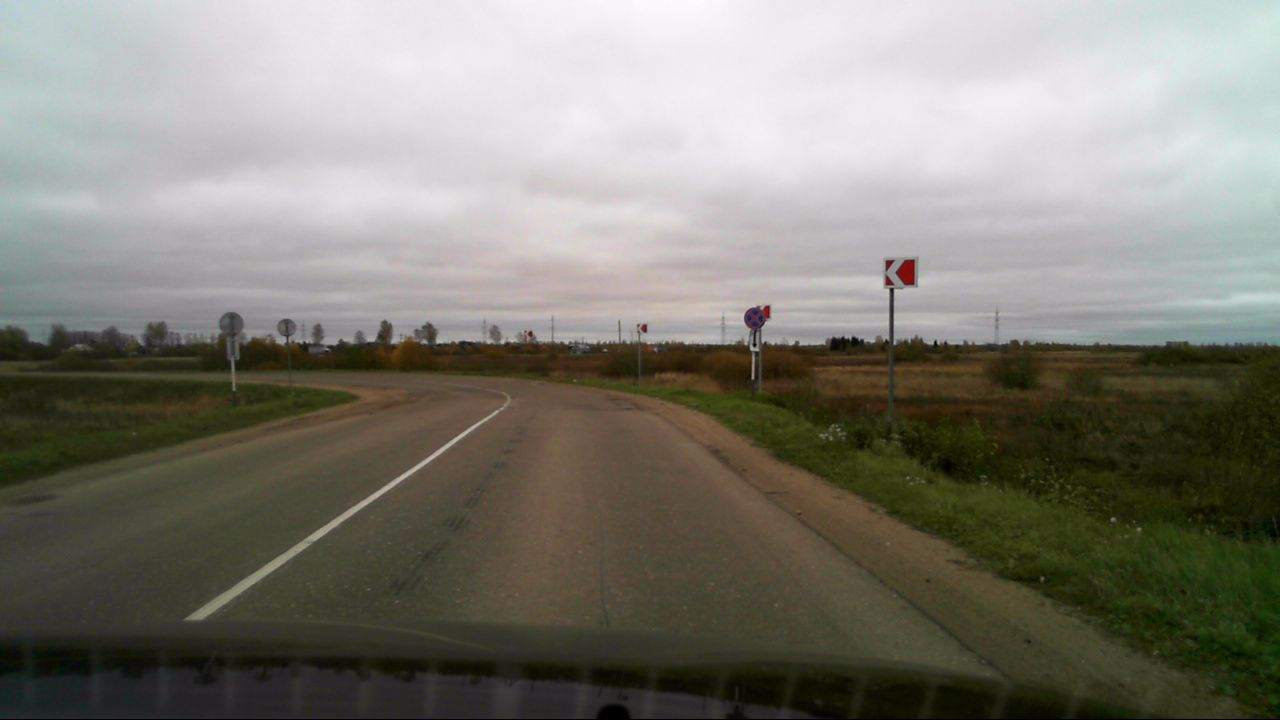No Parking: (743, 306, 765, 329)
